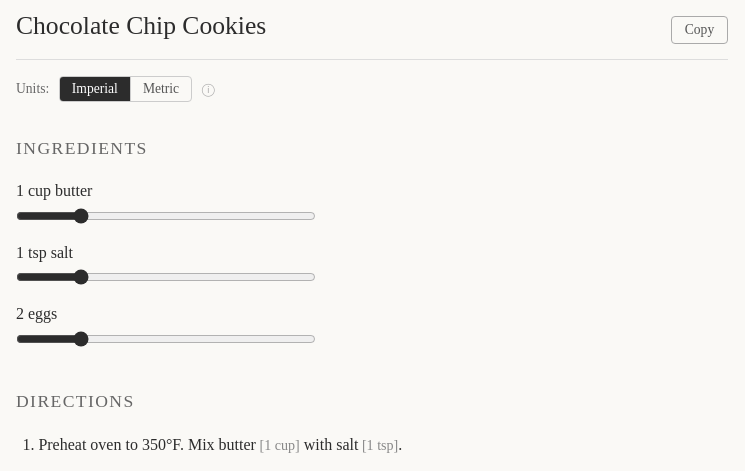
RecipeDisplay › metric mode › direction annotation brackets show metric amount
Click the button "Metric" at (161, 89), box x1=130 y1=77 x2=191 y2=101
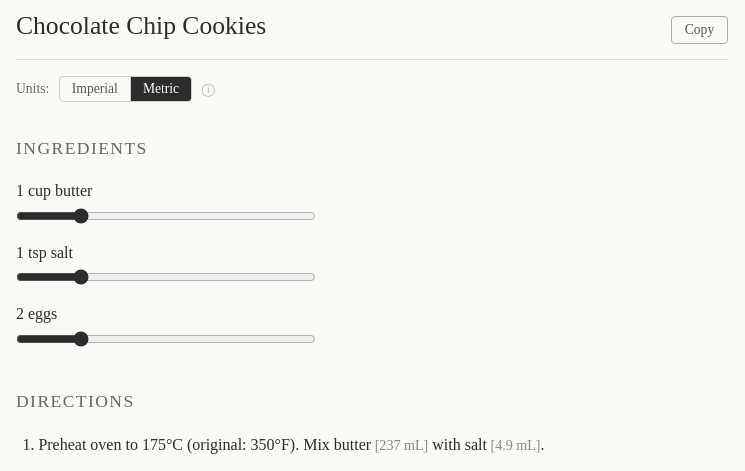
Expected: the text with class "bracket" shows "237 mL", x1=371 y1=437 x2=428 y2=453
Expected: the text with class "bracket" shows "4.9 mL", x1=487 y1=437 x2=540 y2=453
